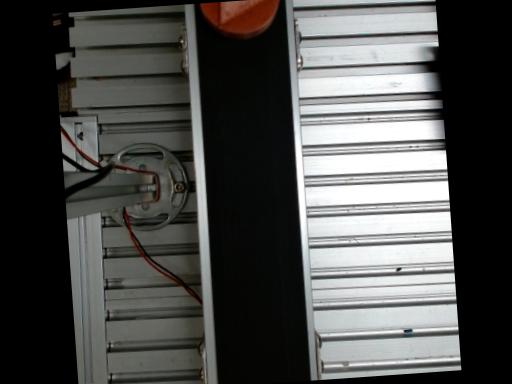Brown_Waper: (197, 0, 278, 38)
Not_Square: (219, 0, 262, 26)
